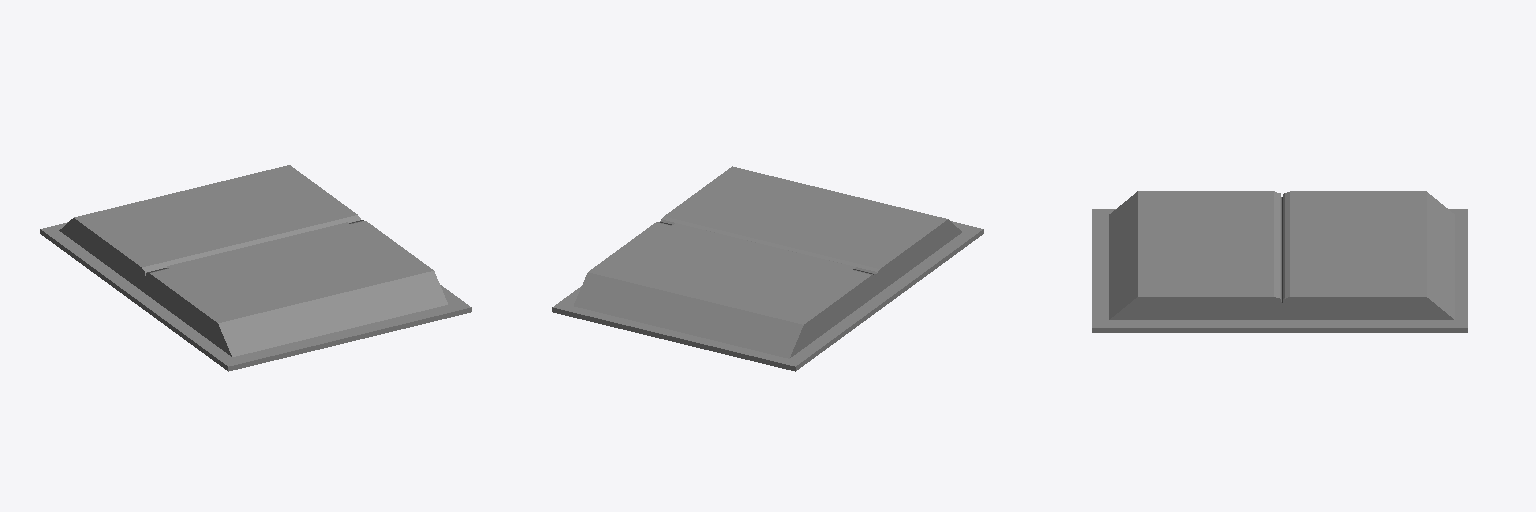
The model's file is open_book.obj.
3 views of the same model, side by side, from view 1: azimuth 30°, elevation 25°; view 2: azimuth 150°, elevation 25°; view 3: azimuth 270°, elevation 25° (orthographic).
Parts seen in each view (by area): view 1: Box003, Box002, Box001, Plane007, Plane001, Plane003, Plane006, Plane004, Plane008, Plane009, Plane005; view 2: Box002, Box003, Box001, Plane006, Plane001, Plane003, Plane007, Plane008, Plane005, Plane004, Plane009; view 3: Box002, Box003, Box001, Plane001, Plane003, Plane006, Plane007, Plane009, Plane005, Plane004, Plane008.
Boxes of the visible parts, box(x1,y1,x2,y2) form: Box003: box(146, 220, 447, 356); Box002: box(59, 165, 360, 293); Box001: box(40, 222, 471, 371); Plane007: box(239, 236, 350, 291); Plane001: box(222, 170, 333, 225); Plane003: box(166, 183, 278, 238); Plane006: box(293, 222, 404, 278); Plane004: box(112, 197, 224, 251); Plane008: box(190, 249, 295, 304); Plane009: box(167, 253, 279, 308); Plane005: box(96, 201, 208, 256); Box002: box(574, 222, 875, 358); Box003: box(660, 166, 961, 294); Box001: box(552, 221, 983, 371); Plane006: box(689, 171, 801, 226); Plane001: box(617, 223, 730, 278); Plane003: box(672, 237, 783, 292); Plane007: box(743, 184, 855, 239); Plane008: box(798, 197, 907, 252); Plane005: box(748, 254, 855, 309); Plane004: box(727, 250, 839, 303); Plane009: box(815, 206, 926, 257); Box002: box(1282, 191, 1454, 319); Box003: box(1109, 191, 1281, 319); Box001: box(1092, 209, 1467, 332); Plane001: box(1294, 254, 1410, 280); Plane003: box(1294, 227, 1410, 253); Plane006: box(1151, 254, 1267, 280); Plane007: box(1151, 227, 1267, 253); Plane009: box(1151, 192, 1267, 215); Plane005: box(1294, 192, 1410, 215); Plane004: box(1294, 201, 1410, 226); Plane008: box(1151, 203, 1267, 226).
Bounding box in the file's own units: 44.09 × 5.96 × 59.06.